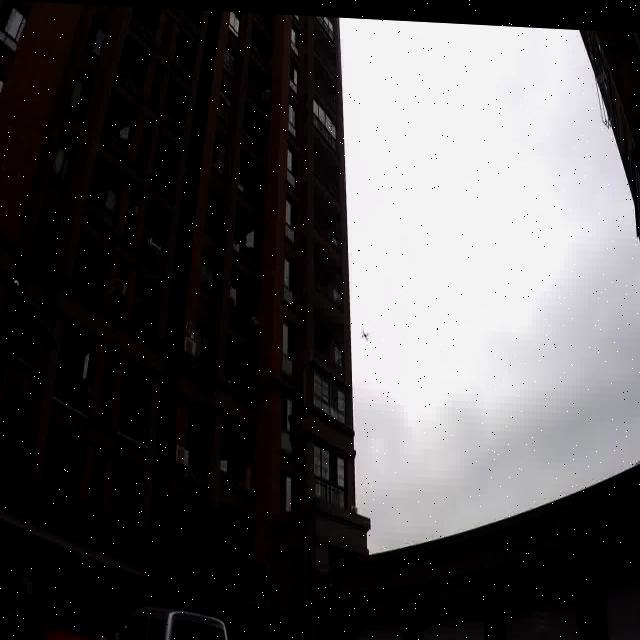drone: (354, 315, 379, 352)
